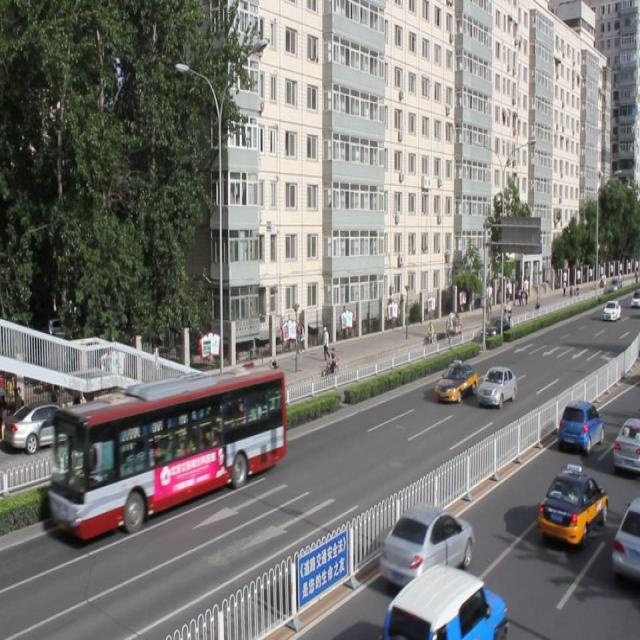car: (382, 562, 505, 640), (378, 500, 474, 590), (537, 464, 606, 545), (556, 397, 603, 452), (610, 498, 640, 578), (434, 358, 476, 402), (476, 363, 516, 407), (610, 416, 640, 471), (480, 314, 509, 341)
van: (51, 372, 284, 541)
